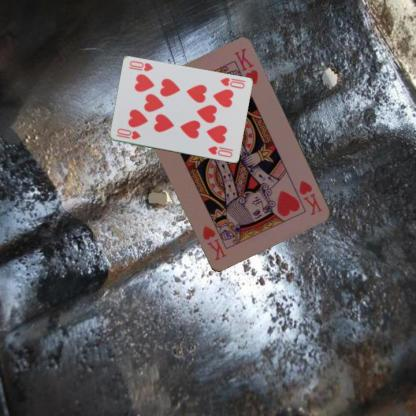10h: (217, 75, 246, 90), (114, 126, 141, 141)
Kh: (297, 178, 324, 217)
